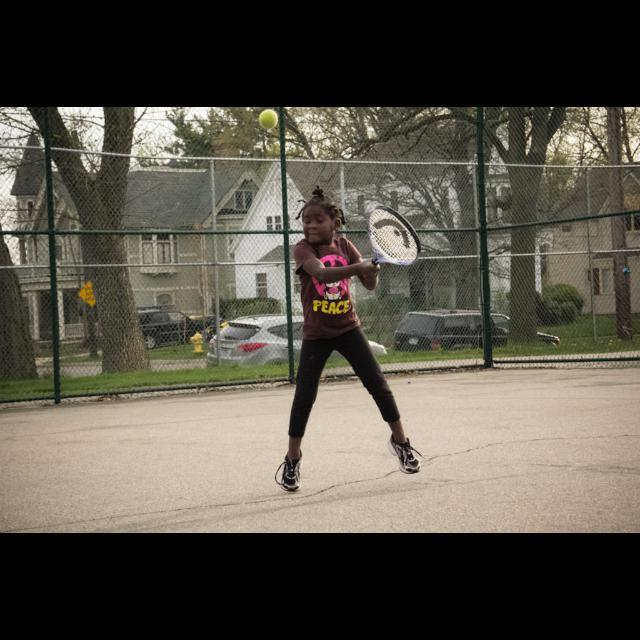tennis ball: (258, 108, 278, 128)
